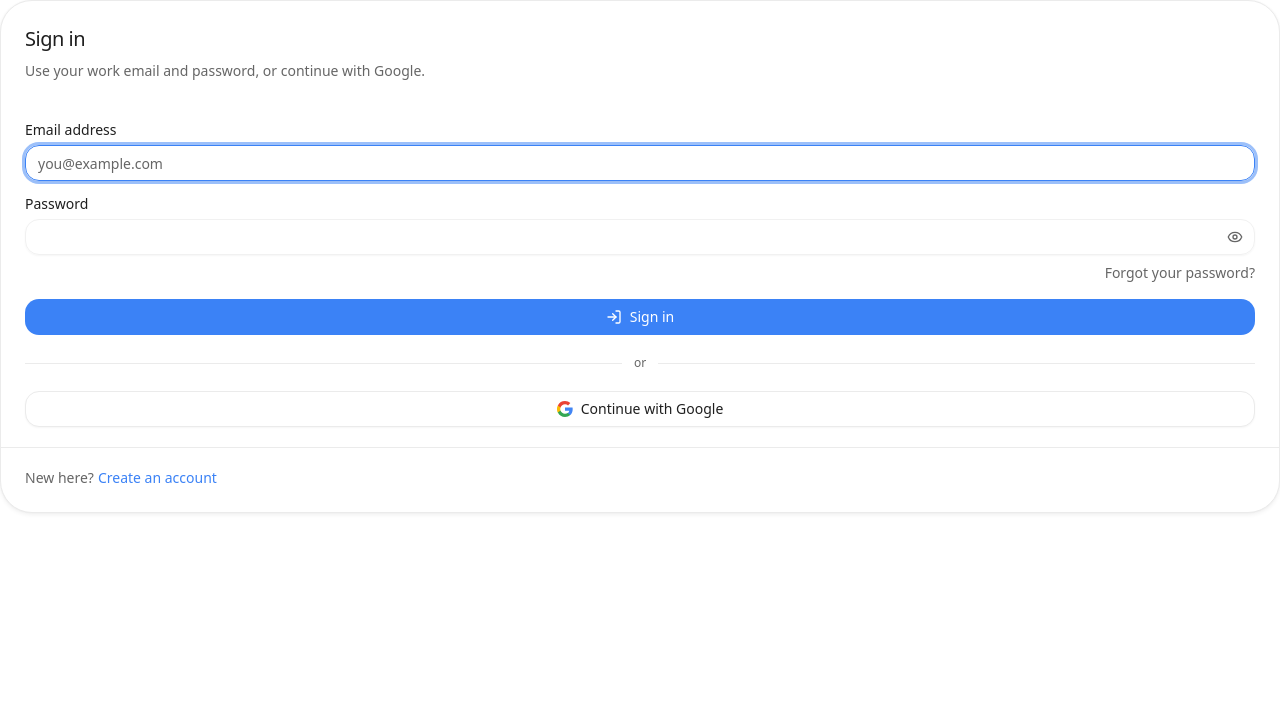
Test case: failures › shows one message for any credential failure
Step 1. Type "sara@example.com" into the field labelled "Email address" → (640, 163), box [25, 145, 1255, 181]
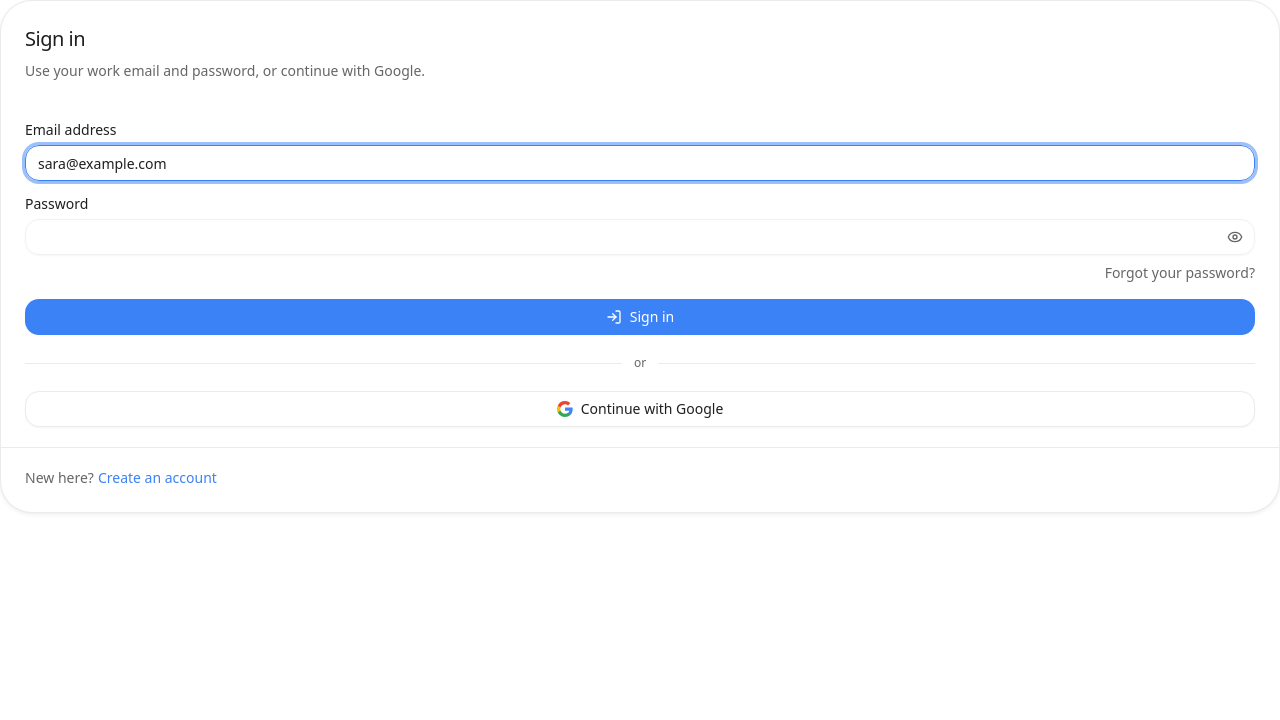
Step 2. Type "a-good-password" into the password field labelled "Password" → (640, 237), box [25, 219, 1255, 255]
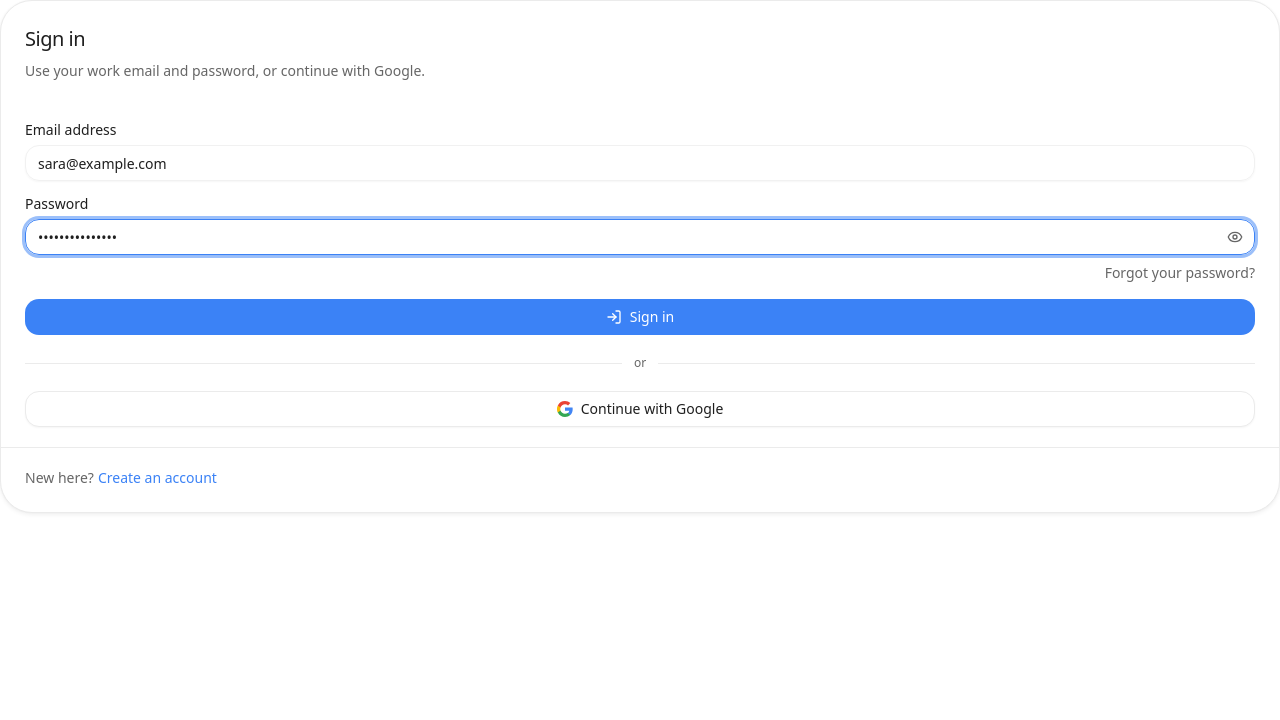
Step 3. Click the button "Sign in" → (640, 317), box [25, 299, 1255, 335]
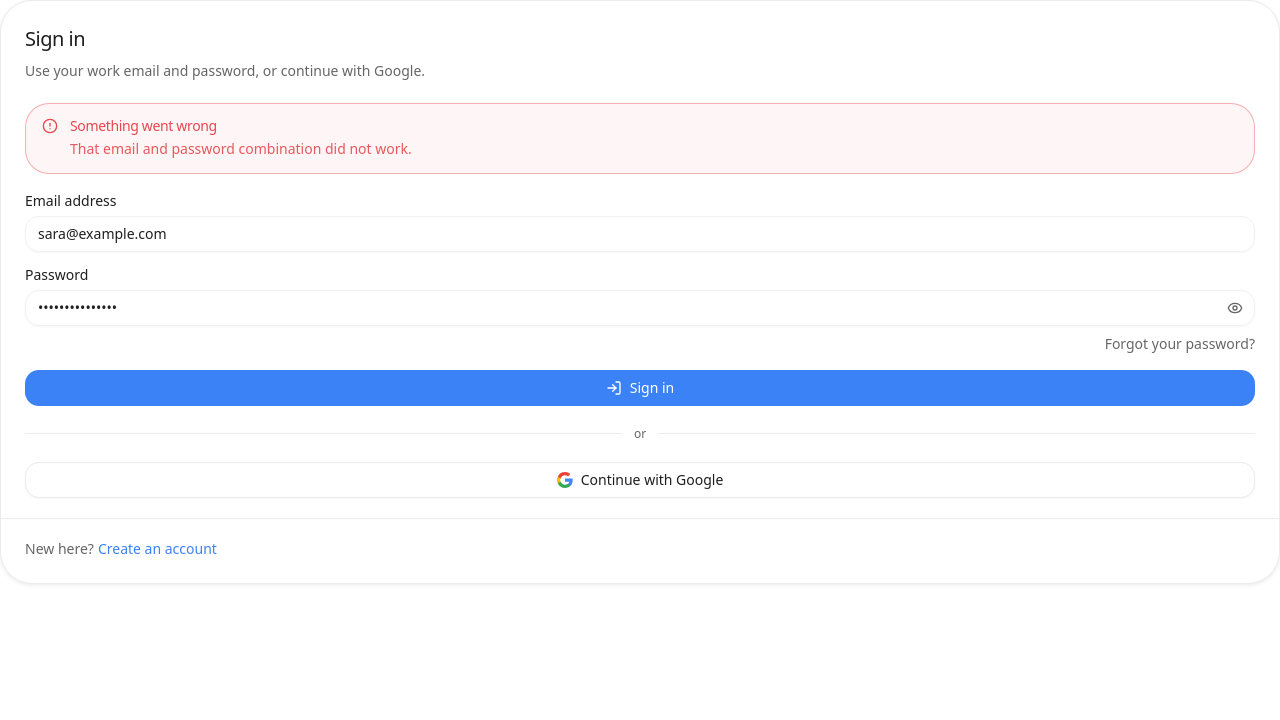
Expected: the text "That email and password combination did not work." is shown, [70, 138, 412, 161]
